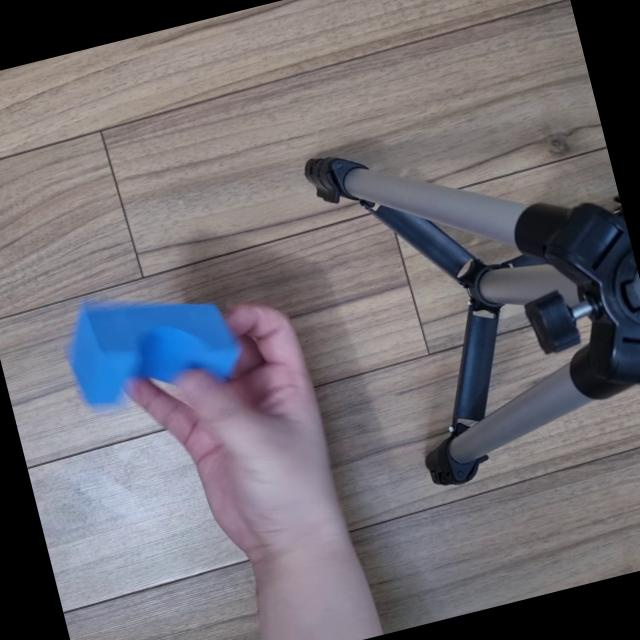block: (45, 268, 255, 424)
hand: (114, 273, 390, 575)
